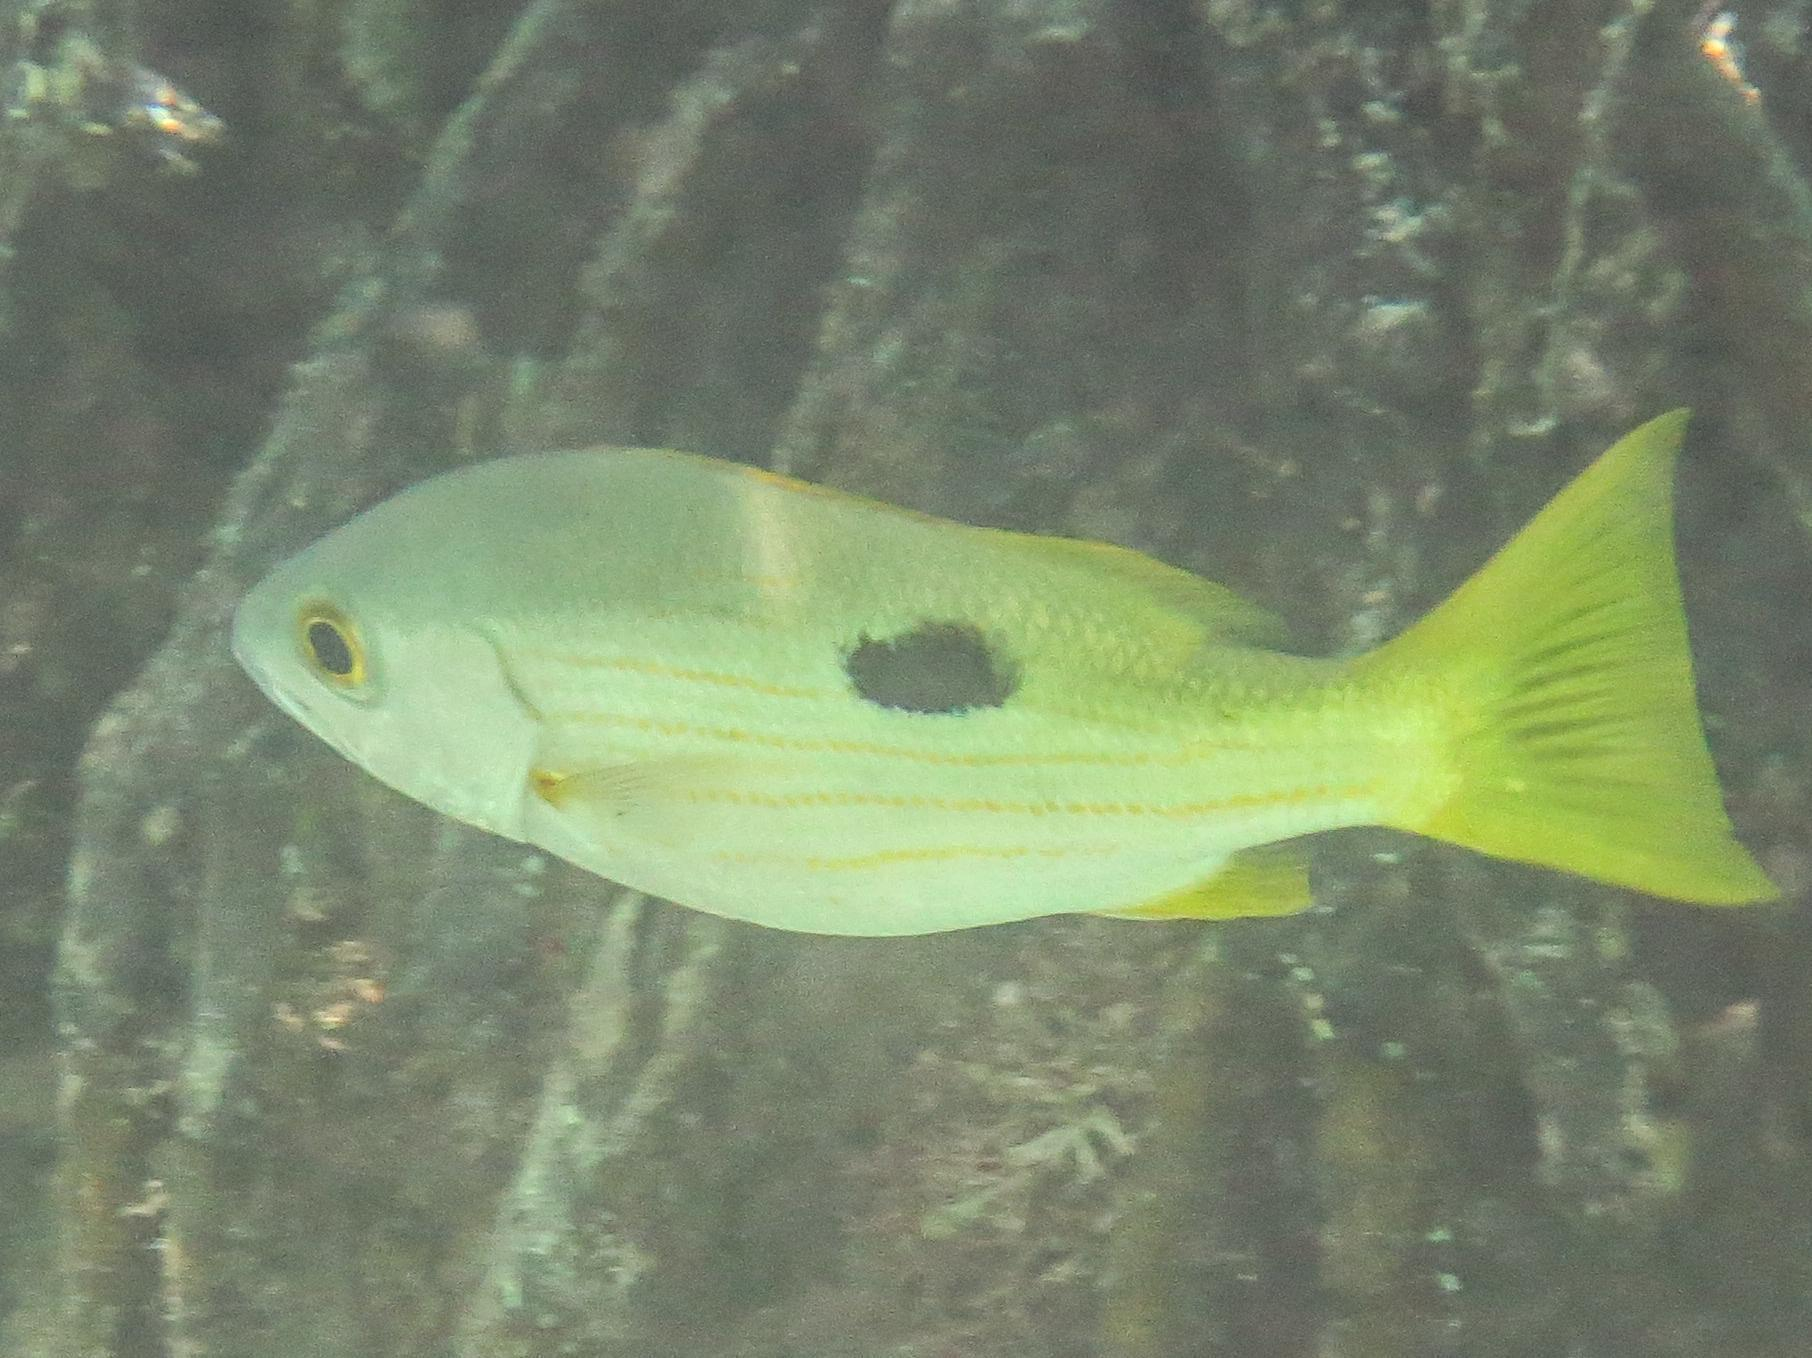Fish: (211, 397, 1811, 993)
